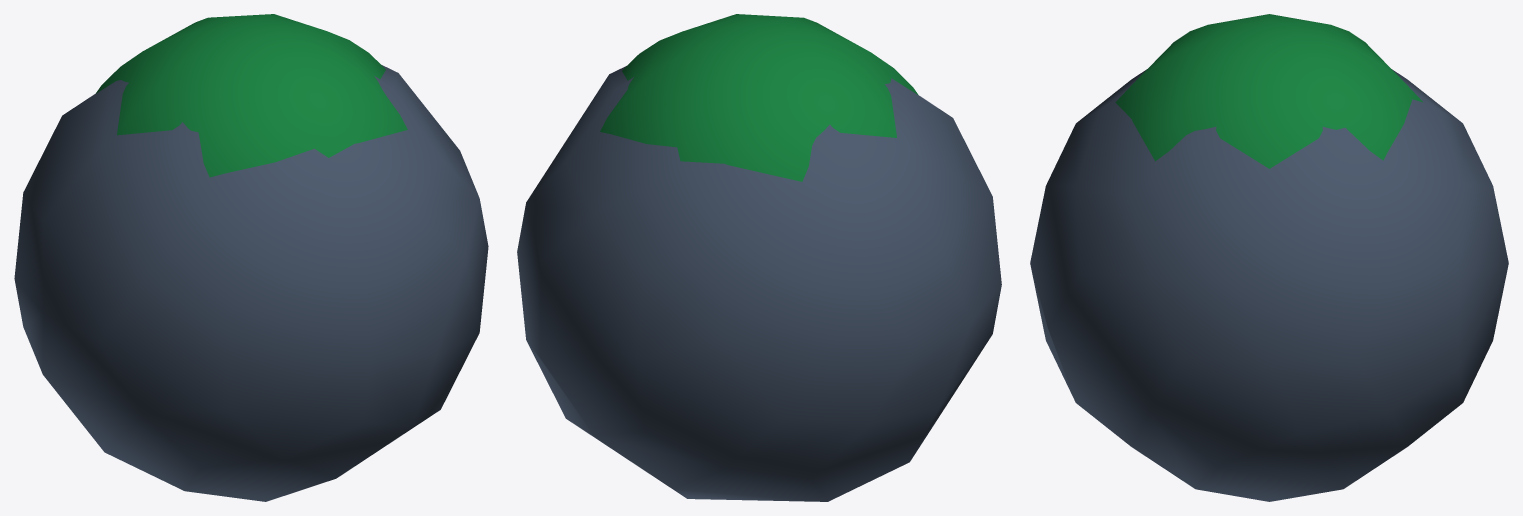
The model's file is mossy_rock.glb.
3 views of the same model, side by side, from view 1: azimuth 30°, elevation 25°; view 2: azimuth 150°, elevation 25°; view 3: azimuth 270°, elevation 25° (orthographic). The views are drawn at different scales.
Visible parts, largest first — view 1: MossyRock; view 2: MossyRock; view 3: MossyRock.
Boxes of the visible parts, bbox=[...] form: MossyRock: bbox=[14, 14, 488, 501]; MossyRock: bbox=[517, 14, 1001, 501]; MossyRock: bbox=[1030, 14, 1508, 501].
Bounding box in the file's own units: 3 × 3.1 × 3.
